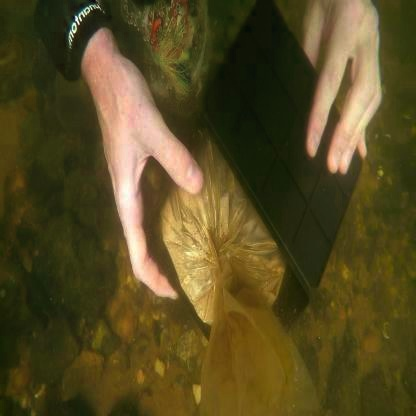pbag: (158, 126, 320, 416)
